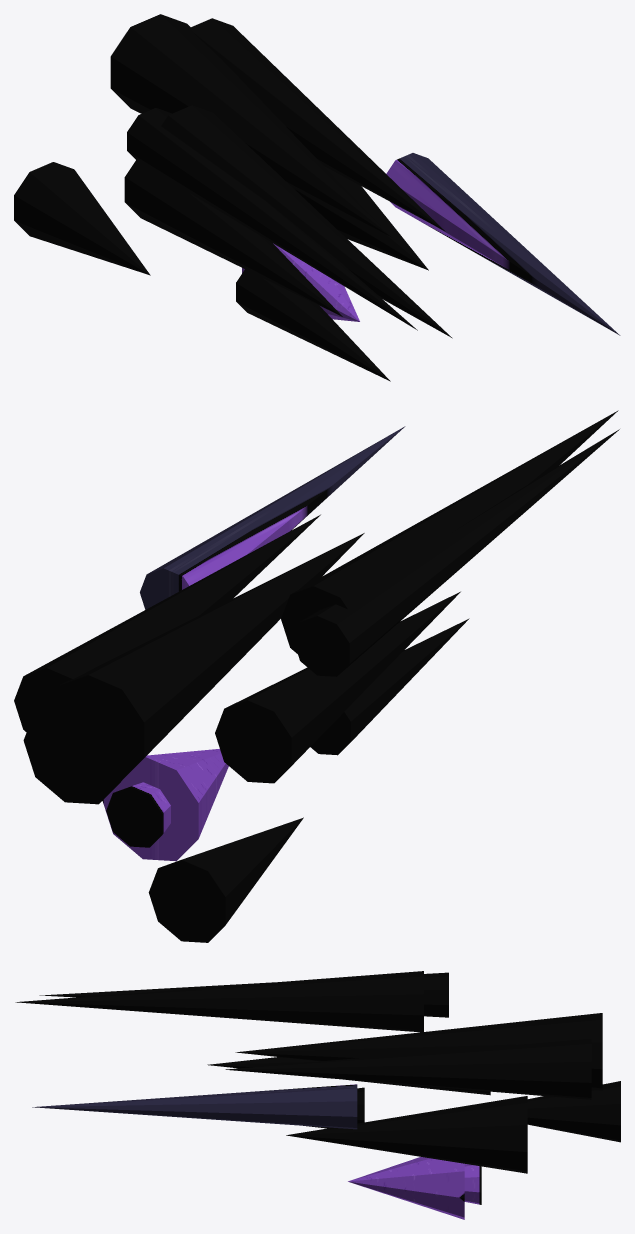
Rendered from rift_crystal_cluster.obj.
3 views of the same model, one above another, from view 1: azimuth 30°, elevation 25°; view 2: azimuth 150°, elevation 25°; view 3: azimuth 270°, elevation 25° (orthographic). The views are drawn at different scales.
Bounding box in the file's own units: 5.26 × 5.17 × 14.51.
Materials: 1 (1 with a texture image).
